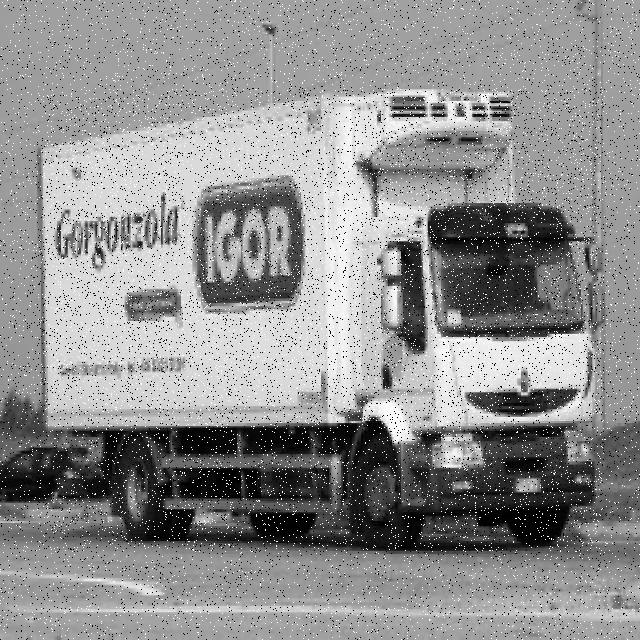Box Truck: (37, 89, 604, 552)
